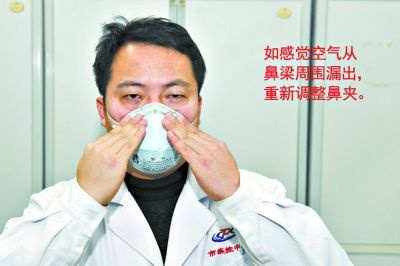correctlyWear: (94, 63, 203, 174)
